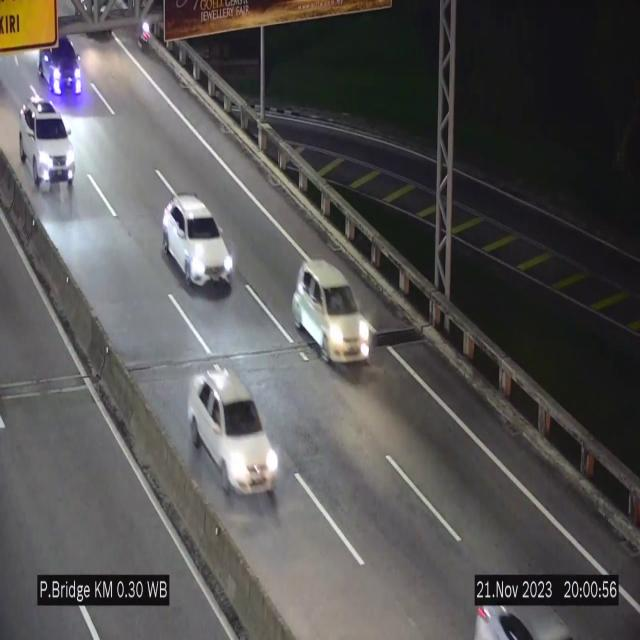Car: (188, 366, 278, 499), (293, 261, 371, 363), (16, 93, 80, 199), (162, 195, 234, 289), (476, 601, 578, 640), (36, 36, 91, 98)
Motorcycle: (136, 0, 154, 55)
